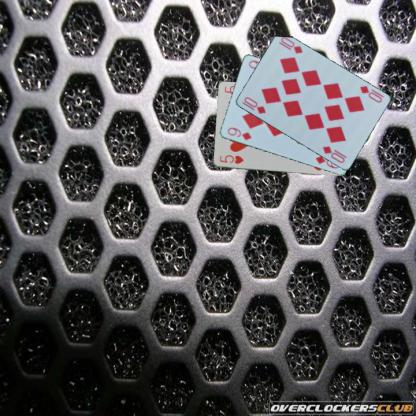10d: (239, 94, 267, 115), (357, 83, 383, 104)
5h: (218, 153, 245, 165)
9d: (225, 124, 253, 141)
